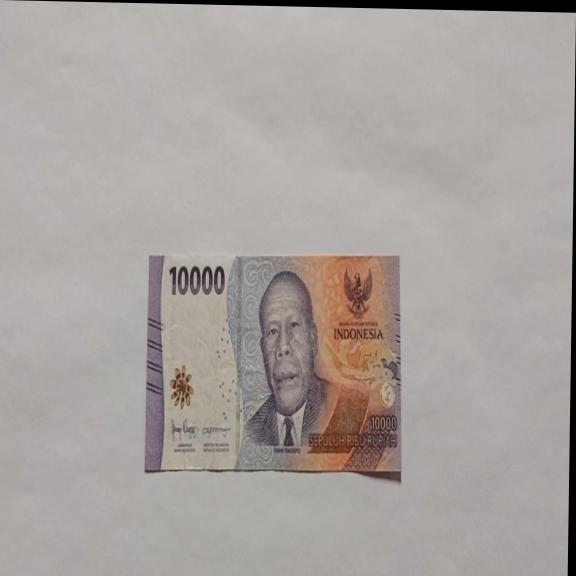Kertas: (145, 248, 404, 479), (167, 261, 226, 298)
